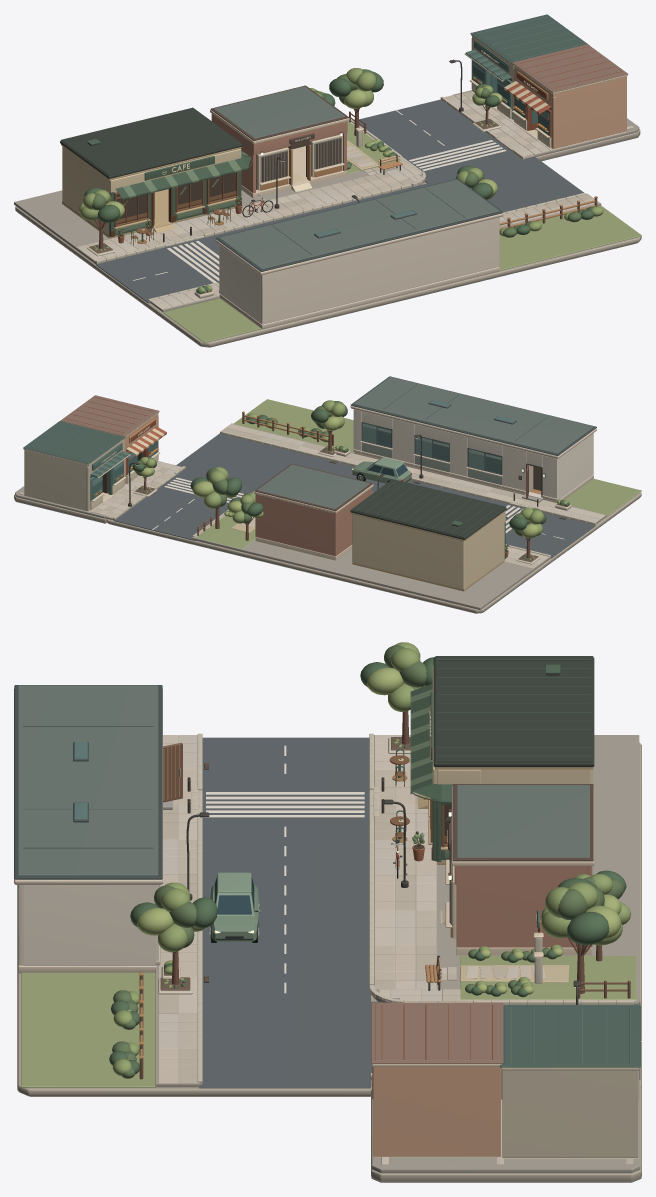
Rendered from street_corner.glb.
The picture shows the model from 3 angles, top to bottom: view 1: azimuth 30°, elevation 25°; view 2: azimuth 150°, elevation 25°; view 3: azimuth 270°, elevation 25°; orthographic projection. The views are drawn at different scales.
Parts seen in each view (by area): view 1: Street and sidewalks · Street · warm grey asphalt, House facade · House · plaster details, House facade · House · charcoal sage roof, Cafe exterior · Cafe | slate roof cap, Street and sidewalks · Planting · moss ground, East-side bakery and neighborhood market · Street linked · w (×2), East-side bakery and neighborhood market · Street linked · m (×2), Street and sidewalks · Sidewalk · sandstone grout, Corner shop facade · House · charcoal sage roof, Street and sidewalks · Street model · warm limestone edge, East-side bakery and neighborhood market · Street linked · b, House facade · House · warm stone course (+34 smaller); view 2: Street and sidewalks · Street · warm grey asphalt, Cafe exterior · Cafe | pale oat plaster, House facade · House · charcoal sage roof, East-side bakery and neighborhood market · Street linked · m (×3), House facade · House · cream limestone plaster, Street and sidewalks · Sidewalk · sandstone grout, Cafe exterior · Cafe | slate roof cap, Corner shop facade · Corner shop · warm rose mineral paint, Street and sidewalks · Planting · moss ground, Corner shop facade · House · charcoal sage roof, Street and sidewalks · Street model · warm limestone edge, House facade · House · warm stone course (+31 smaller); view 3: Street and sidewalks · Street · warm grey asphalt, House facade · House · charcoal sage roof, East-side bakery and neighborhood market · Street linked · m (×2), Cafe exterior · Cafe | slate roof cap, Street and sidewalks · Planting · moss ground, East-side bakery and neighborhood market · Street linked · w (×2), Street and sidewalks · Sidewalk · sandstone grout, House facade · House · cream limestone plaster, Corner shop facade · House · charcoal sage roof, East-side bakery and neighborhood market · Street linked · b, Corner shop facade · Corner shop · warm rose mineral paint, Corner planting and benches · Street planting · leaf green (+30 smaller).
Part boxes in pixels (x1=…): Street and sidewalks · Street · warm grey asphalt: x1=96, y1=99, x2=583, y2=303; House facade · House · plaster details: x1=260, y1=217, x2=499, y2=324; House facade · House · charcoal sage roof: x1=219, y1=179, x2=499, y2=269; Cafe exterior · Cafe | slate roof cap: x1=60, y1=107, x2=242, y2=178; Street and sidewalks · Planting · moss ground: x1=163, y1=205, x2=641, y2=342; East-side bakery and neighborhood market · Street linked · w (×2): x1=464, y1=35, x2=627, y2=149; East-side bakery and neighborhood market · Street linked · m (×2): x1=465, y1=14, x2=588, y2=108; Street and sidewalks · Sidewalk · sandstone grout: x1=14, y1=154, x2=601, y2=311; Corner shop facade · House · charcoal sage roof: x1=214, y1=86, x2=345, y2=138; Street and sidewalks · Street model · warm limestone edge: x1=15, y1=182, x2=641, y2=347; East-side bakery and neighborhood market · Street linked · b: x1=512, y1=44, x2=628, y2=92; House facade · House · warm stone course: x1=194, y1=213, x2=503, y2=329; Street and sidewalks · Street · warm grey asphalt: x1=113, y1=433, x2=595, y2=558; Cafe exterior · Cafe | pale oat plaster: x1=352, y1=511, x2=505, y2=588; House facade · House · charcoal sage roof: x1=354, y1=377, x2=593, y2=453; East-side bakery and neighborhood market · Street linked · m (×3): x1=23, y1=421, x2=129, y2=511; House facade · House · cream limestone plaster: x1=353, y1=409, x2=592, y2=499; Street and sidewalks · Sidewalk · sandstone grout: x1=105, y1=423, x2=606, y2=609; Cafe exterior · Cafe | slate roof cap: x1=350, y1=479, x2=506, y2=539; Corner shop facade · Corner shop · warm rose mineral paint: x1=255, y1=488, x2=371, y2=556; Street and sidewalks · Planting · moss ground: x1=234, y1=399, x2=641, y2=516; Corner shop facade · House · charcoal sage roof: x1=257, y1=464, x2=369, y2=508; Street and sidewalks · Street model · warm limestone edge: x1=106, y1=401, x2=641, y2=613; House facade · House · warm stone course: x1=334, y1=406, x2=596, y2=510; Street and sidewalks · Street · warm grey asphalt: x1=199, y1=737, x2=640, y2=1088; House facade · House · charcoal sage roof: x1=18, y1=685, x2=158, y2=875; East-side bakery and neighborhood market · Street linked · m (×2): x1=500, y1=1005, x2=640, y2=1157; Cafe exterior · Cafe | slate roof cap: x1=433, y1=656, x2=594, y2=767; Street and sidewalks · Planting · moss ground: x1=21, y1=972, x2=155, y2=1087; East-side bakery and neighborhood market · Street linked · w (×2): x1=372, y1=1064, x2=639, y2=1158; Street and sidewalks · Sidewalk · sandstone grout: x1=155, y1=735, x2=639, y2=1087; House facade · House · cream limestone plaster: x1=23, y1=885, x2=158, y2=965; Corner shop facade · House · charcoal sage roof: x1=457, y1=785, x2=589, y2=857; East-side bakery and neighborhood market · Street linked · b: x1=371, y1=1002, x2=503, y2=1063; Corner shop facade · Corner shop · warm rose mineral paint: x1=454, y1=866, x2=592, y2=947; Corner planting and benches · Street planting · leaf green: x1=112, y1=642, x2=631, y2=1075.
Size of the model in its own units: 32.69 by 4.26 by 19.85.
